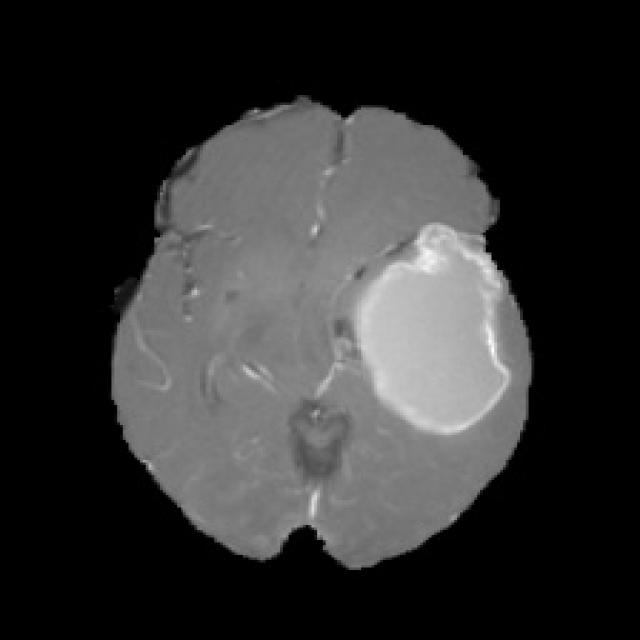negative: (357, 225, 509, 435)
